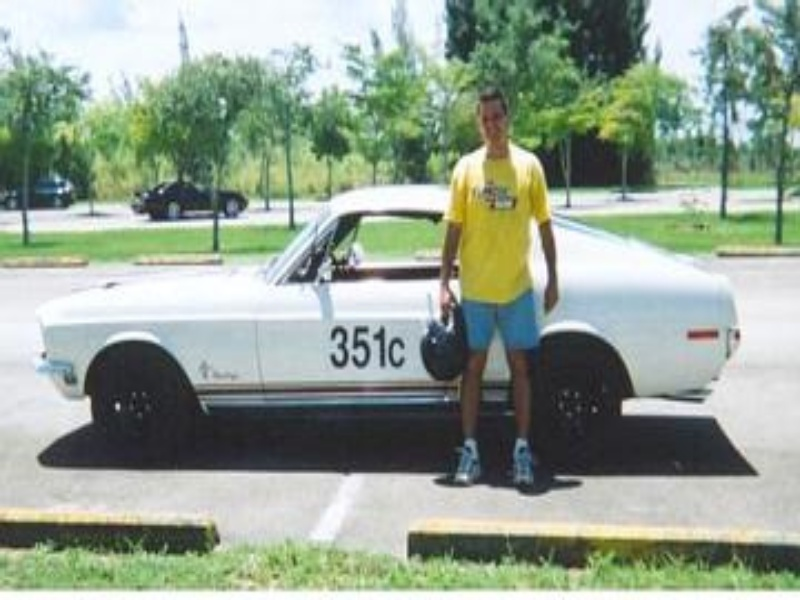car: (38, 187, 742, 453), (131, 180, 248, 221), (1, 177, 74, 209)
person: (440, 86, 558, 486)
